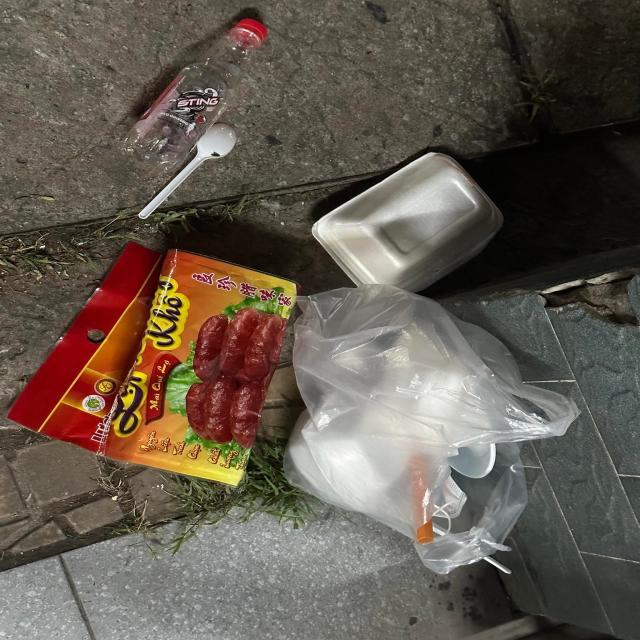bottle: (122, 17, 266, 171)
foam box: (311, 145, 504, 302)
plastic utensil: (139, 122, 237, 220)
snack package: (5, 238, 300, 490)
trash bag: (286, 283, 580, 578)
